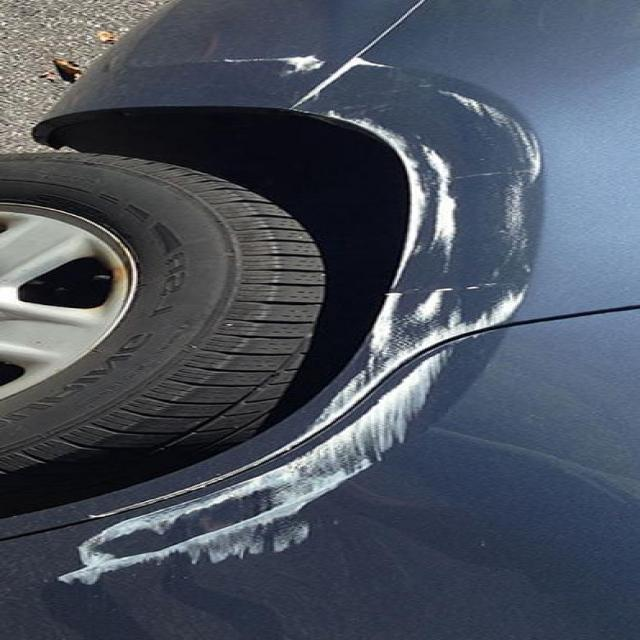scratch: (15, 288, 550, 594), (206, 25, 600, 285)
